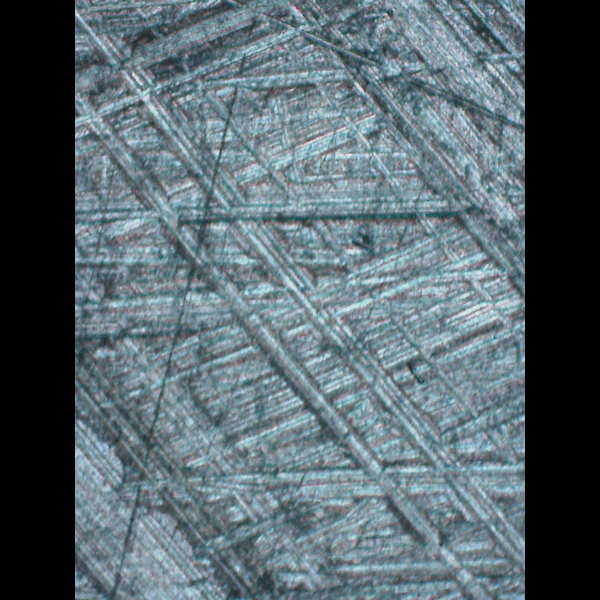d: (93, 66, 505, 545)
